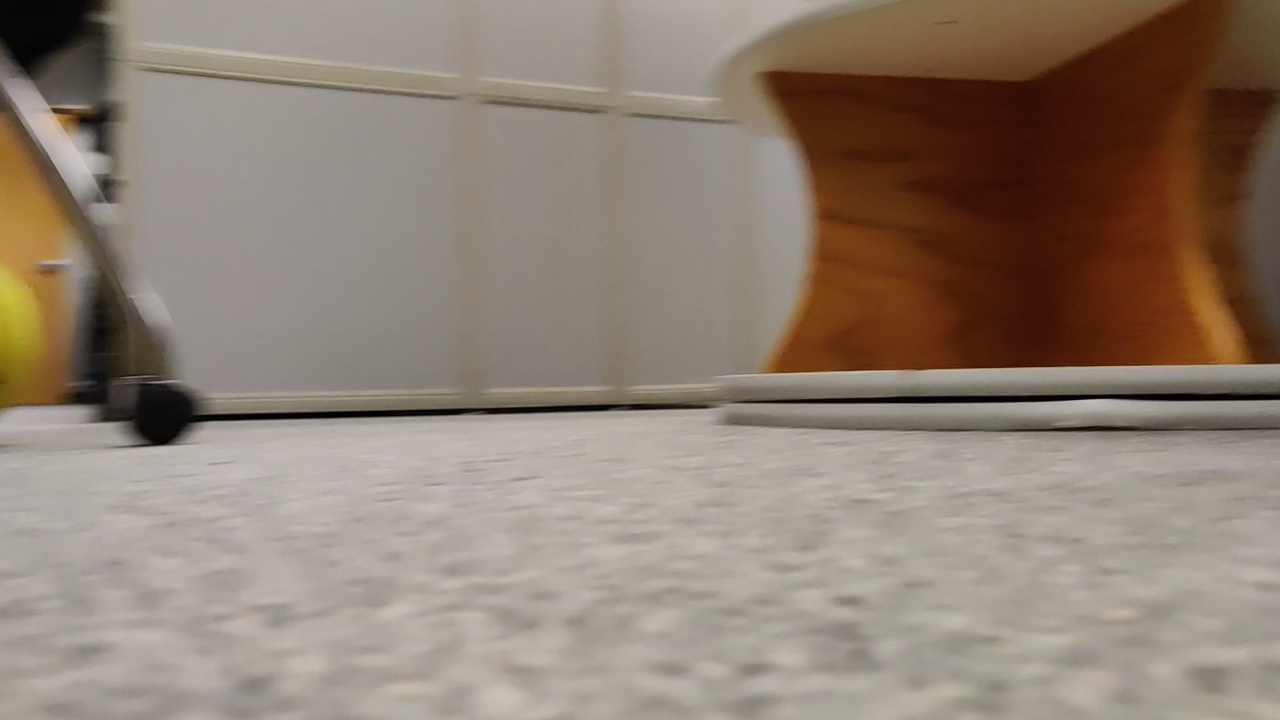Ball: (1, 263, 46, 410)
